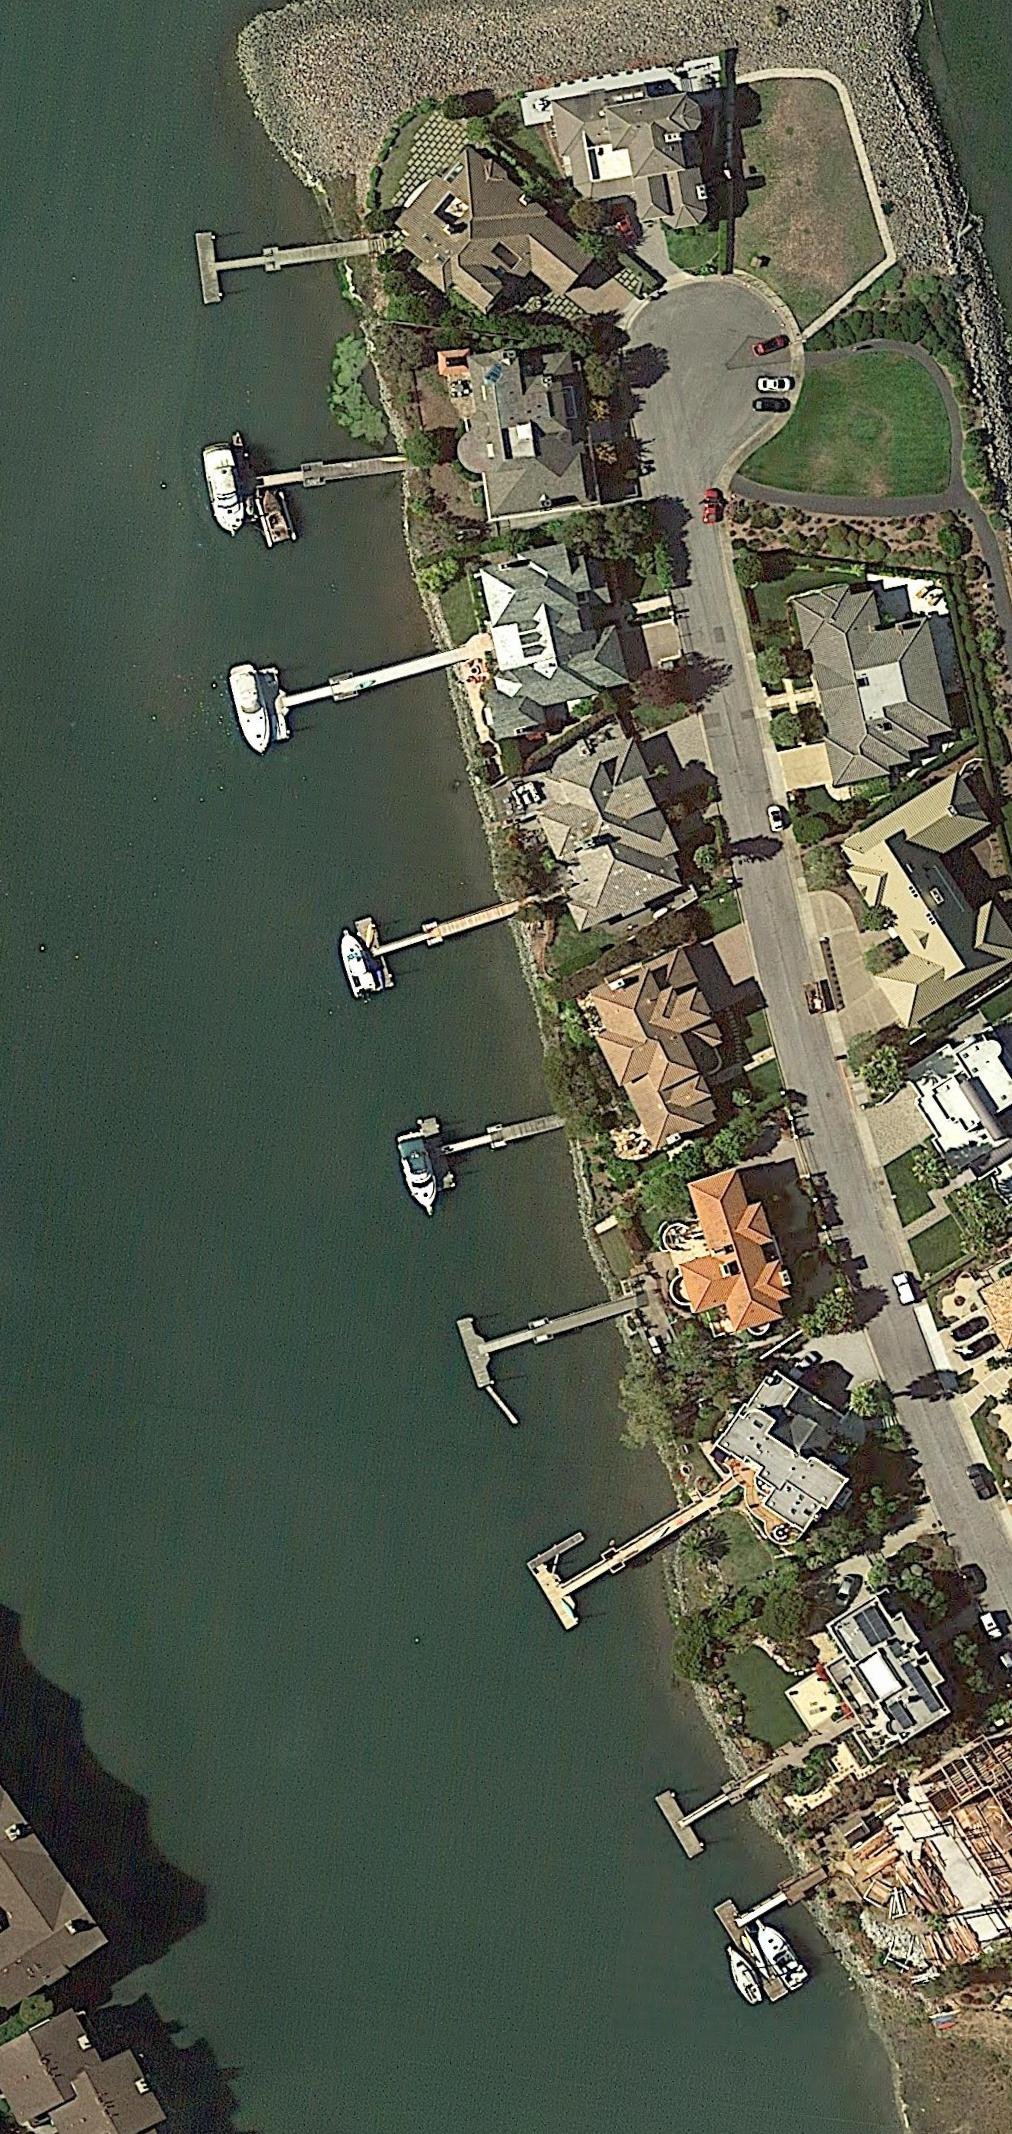harbor: (525, 1462, 735, 1630), (257, 621, 457, 743), (456, 1268, 647, 1392), (233, 406, 404, 524), (354, 876, 521, 991), (418, 1083, 585, 1194), (197, 206, 381, 303), (715, 1871, 843, 2005), (656, 1757, 769, 1860)
ship: (745, 1909, 812, 1994), (199, 440, 252, 543), (226, 661, 279, 761), (393, 1130, 443, 1221), (717, 1943, 769, 2010), (335, 925, 377, 998), (258, 489, 291, 543)
